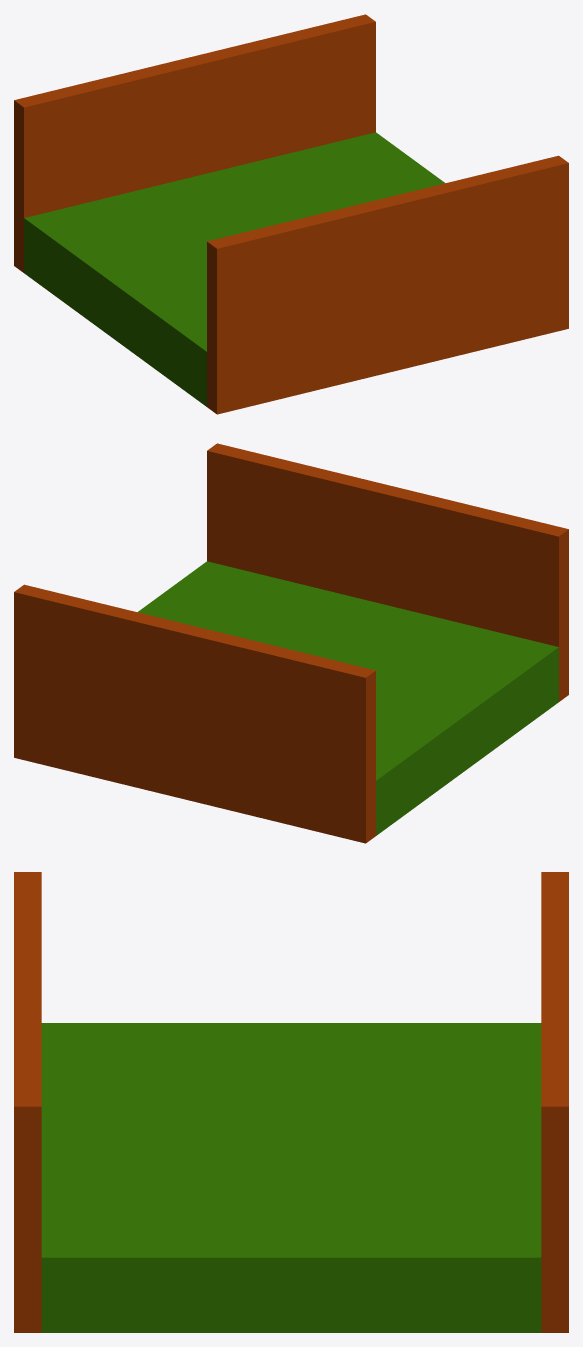
File: straight_narrow.fbx
The picture shows the model from 3 angles, top to bottom: view 1: azimuth 30°, elevation 25°; view 2: azimuth 150°, elevation 25°; view 3: azimuth 270°, elevation 25°; orthographic projection. The views are drawn at different scales.
Parts seen in each view (by area): view 1: Plane; view 2: Plane; view 3: Plane.
Boxes of the visible parts, x1=… form: Plane: x1=14, y1=14, x2=568, y2=414; Plane: x1=14, y1=443, x2=568, y2=843; Plane: x1=14, y1=872, x2=568, y2=1332.
Bounding box in the file's own units: 200 × 90 × 200.
